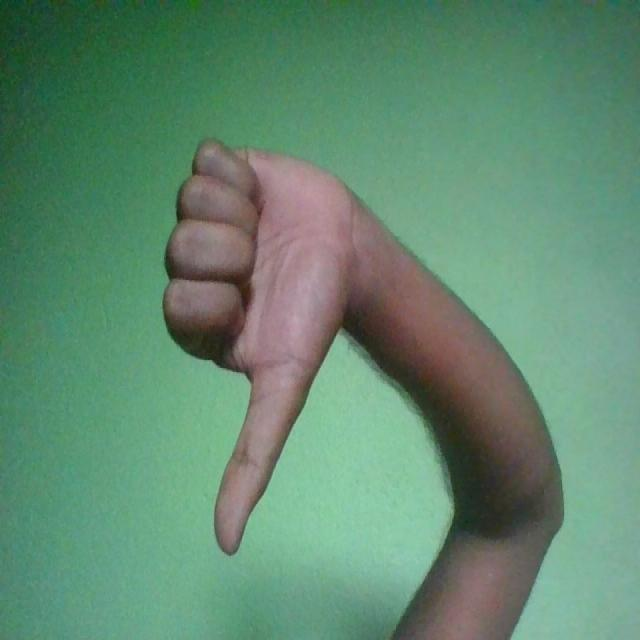Dislike: (163, 136, 363, 553)
